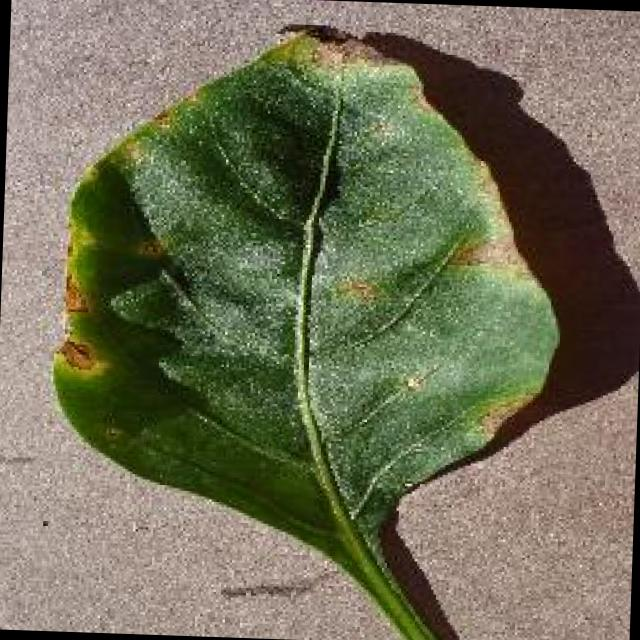Chilli_Bacterial_Spot: (42, 16, 572, 551), (331, 270, 382, 307), (53, 333, 99, 372), (58, 268, 90, 314), (130, 228, 166, 262), (398, 368, 426, 396)
